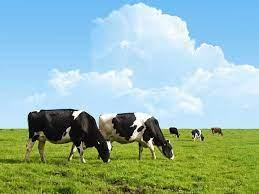cow: (24, 108, 112, 167), (99, 111, 174, 161), (190, 128, 205, 141), (168, 126, 181, 140), (211, 127, 224, 136)
